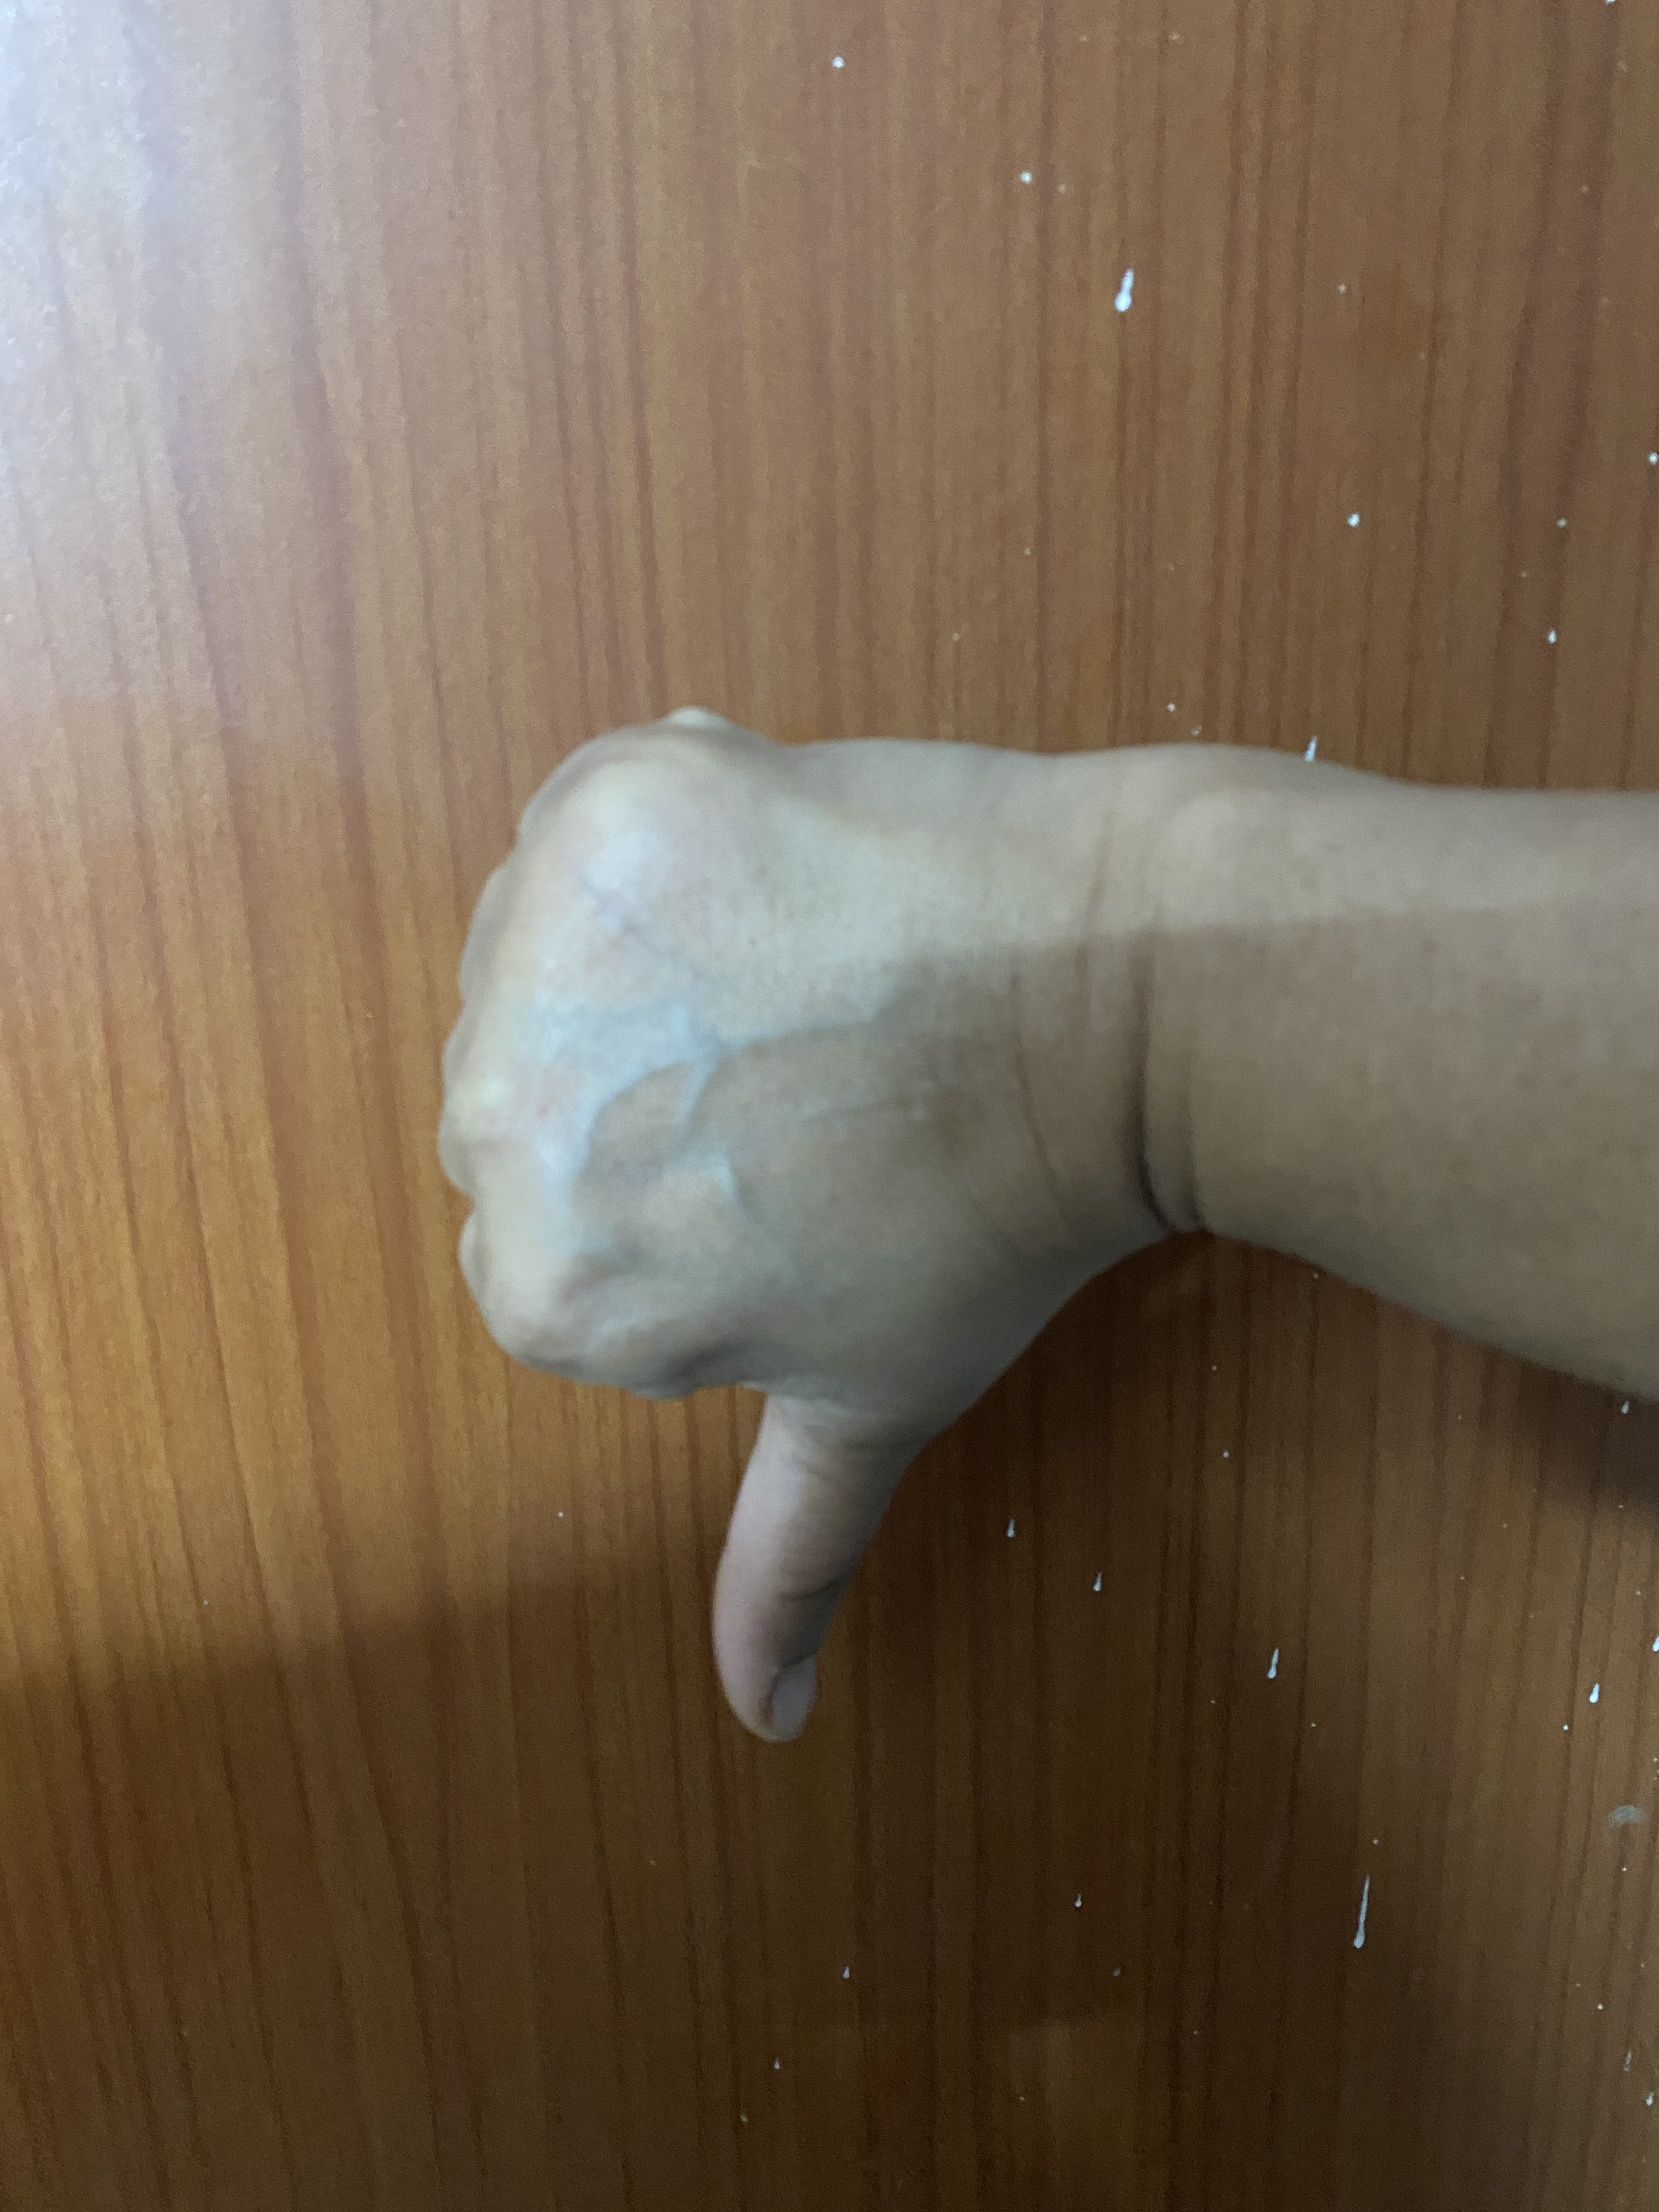down: (439, 705, 1659, 1756)
